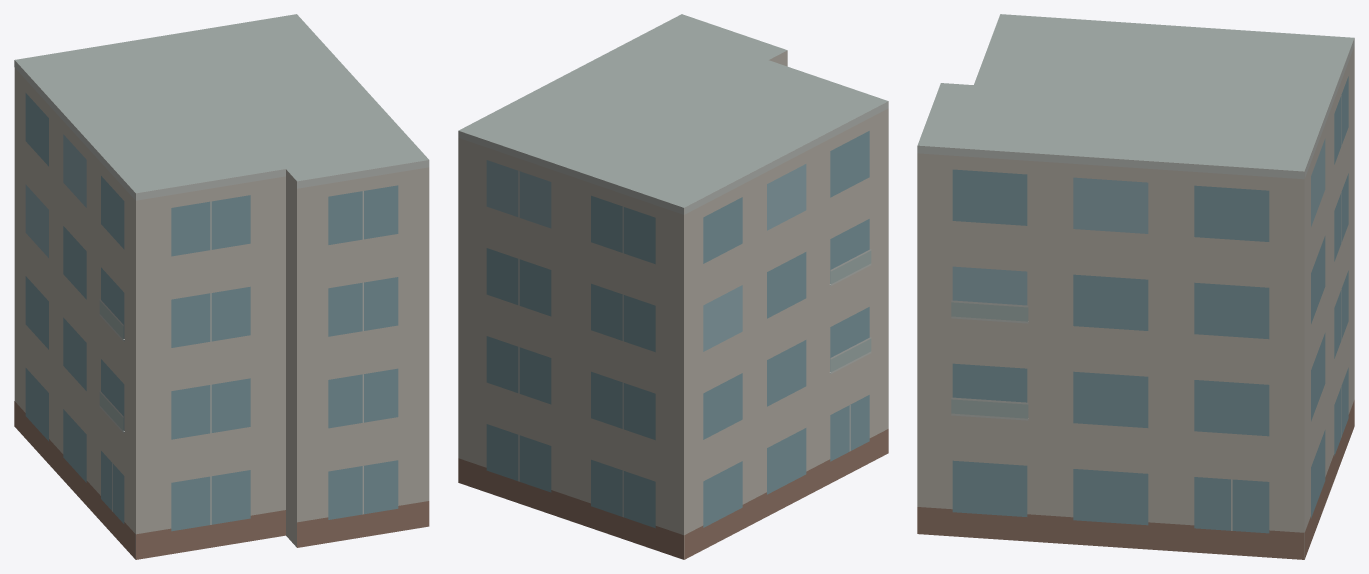
File: residential-a5cd9ba4-4530-4349-9ae2-545ce175cbf8.glb
3 renders of one model, left to right at view 1: azimuth 30°, elevation 25°; view 2: azimuth 150°, elevation 25°; view 3: azimuth 270°, elevation 25°, orthographic. The views are drawn at different scales.
Parts seen in each view (by area): view 1: residential-a5cd9ba4-4530-4349-9ae2-545ce175cbf8.tmp; view 2: residential-a5cd9ba4-4530-4349-9ae2-545ce175cbf8.tmp; view 3: residential-a5cd9ba4-4530-4349-9ae2-545ce175cbf8.tmp.
Boxes of the visible parts, bbox=[...] form: residential-a5cd9ba4-4530-4349-9ae2-545ce175cbf8.tmp: bbox=[14, 14, 429, 559]; residential-a5cd9ba4-4530-4349-9ae2-545ce175cbf8.tmp: bbox=[458, 14, 888, 559]; residential-a5cd9ba4-4530-4349-9ae2-545ce175cbf8.tmp: bbox=[917, 14, 1354, 559].
Bounding box in the file's own units: 10.62 × 12.2 × 12.46.
